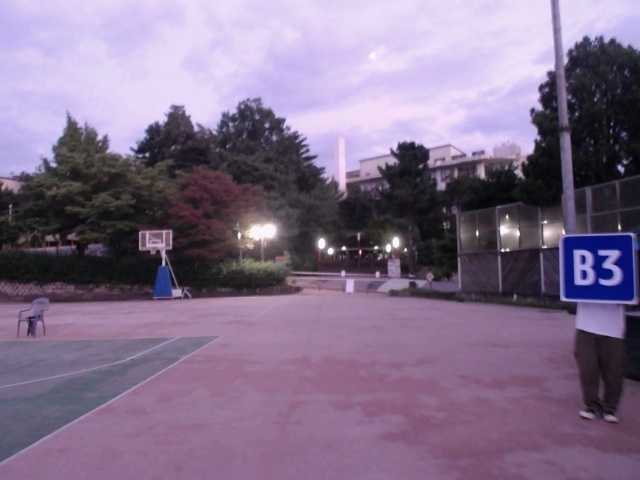delivery_b3: (558, 234, 637, 305)
